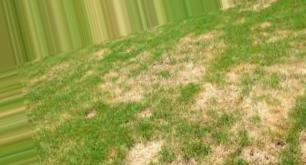patch: (233, 68, 296, 101), (170, 47, 210, 80), (114, 81, 148, 100), (131, 142, 162, 162)
